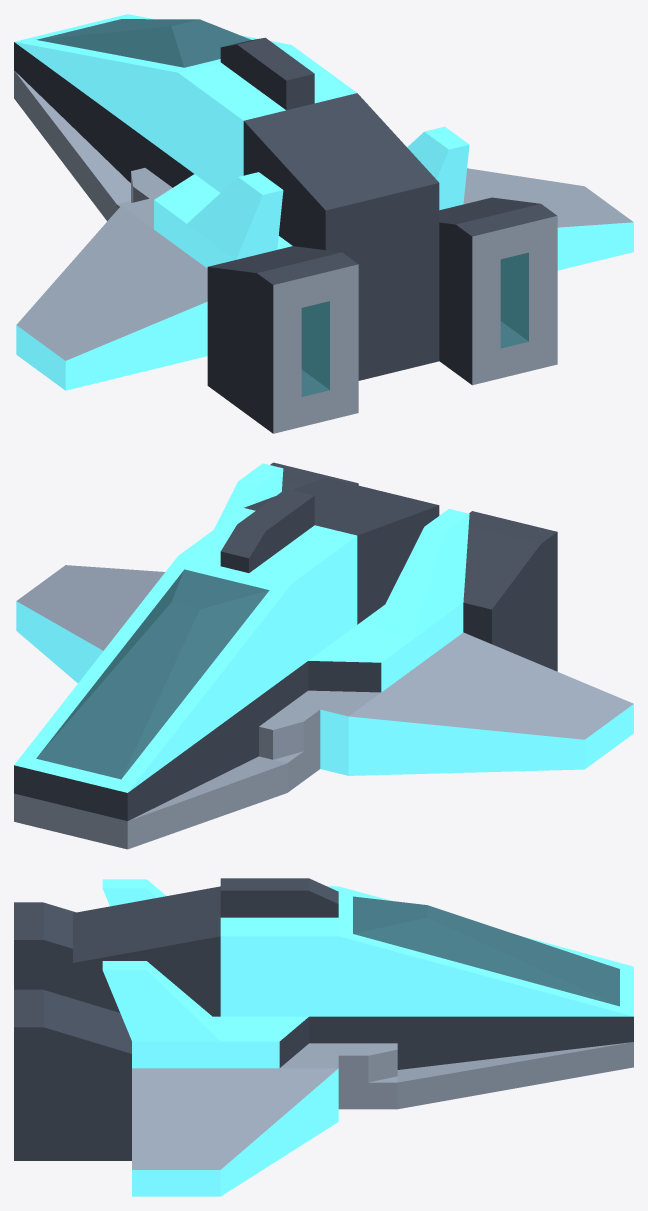
The model's file is craft_speederA.glb.
The picture shows the model from 3 angles, top to bottom: view 1: azimuth 30°, elevation 25°; view 2: azimuth 150°, elevation 25°; view 3: azimuth 270°, elevation 25°; orthographic projection. The views are drawn at different scales.
Parts seen in each view (by area): view 1: craft_speederA; view 2: craft_speederA; view 3: craft_speederA.
Boxes of the visible parts, x1,y1,x2,y2 form: craft_speederA: [14, 14, 633, 433]; craft_speederA: [14, 462, 633, 849]; craft_speederA: [14, 878, 633, 1196].
Bounding box in the file's own units: 2 × 0.8 × 2.1.
